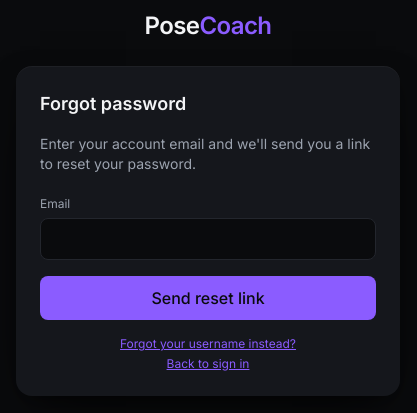
ForgotPasswordPage › toggles between password and username reminder modes
Expected: the button "Send reset link" is shown, [40,276,376,320]
Click the button "Forgot your username instead?" at (208, 344), box [40,336,376,352]
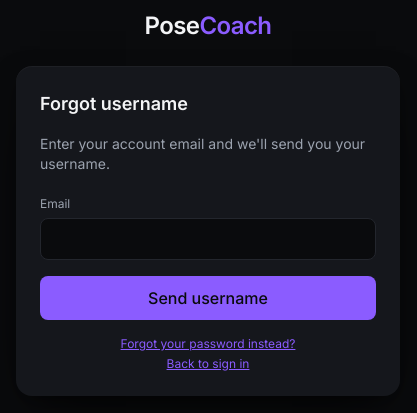
Result: the button "Send username" is shown at [40,276,376,320]
